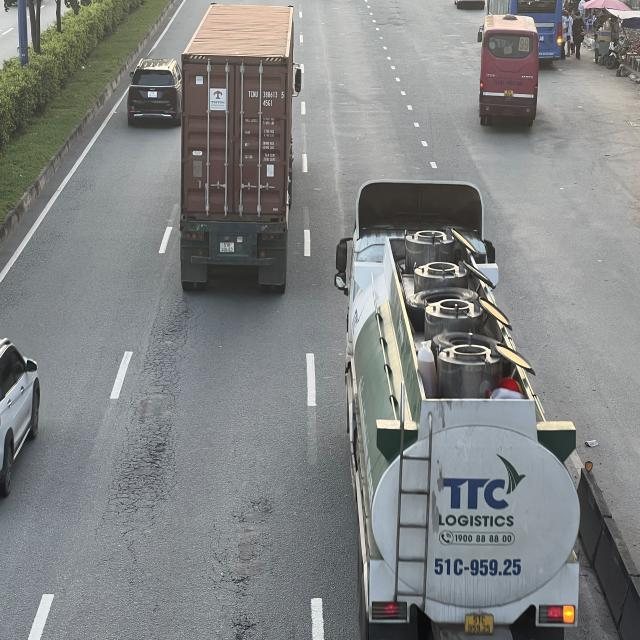car: (0, 334, 41, 496), (126, 56, 182, 125)
coach: (477, 16, 538, 126)
container: (333, 180, 598, 640), (179, 7, 305, 297)
